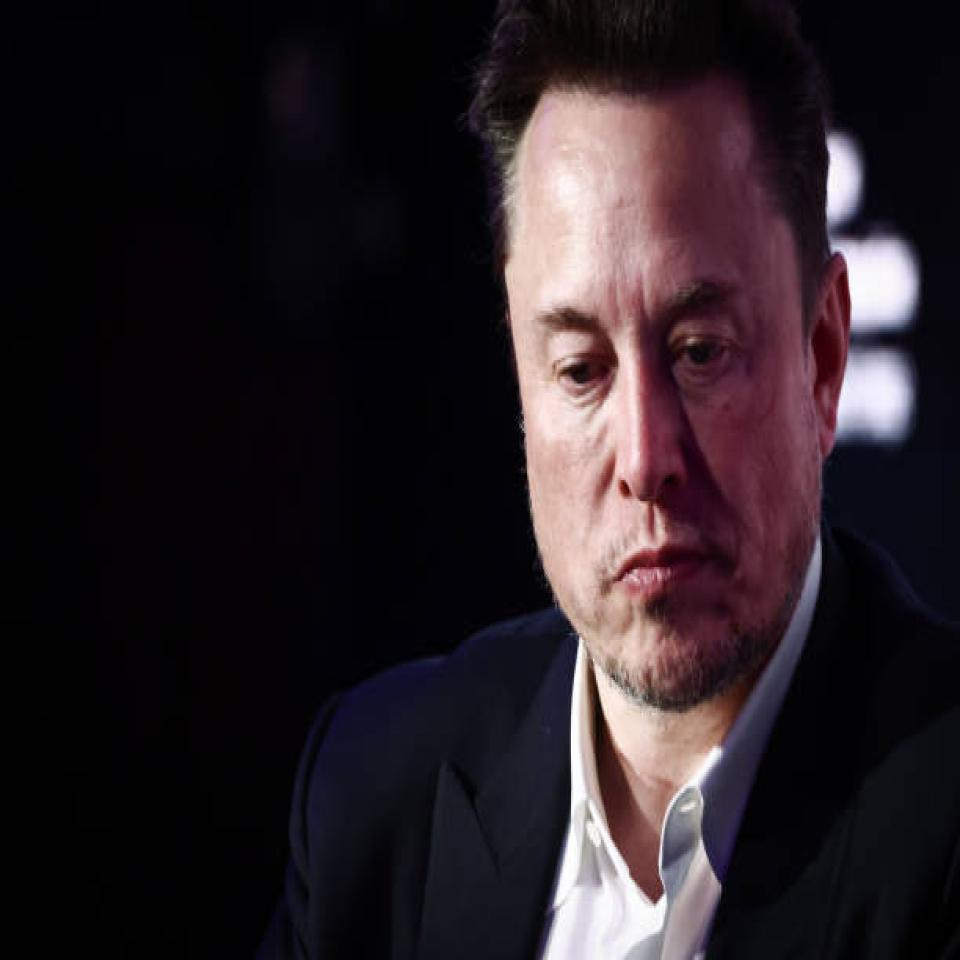Sadness: (503, 61, 851, 704)
